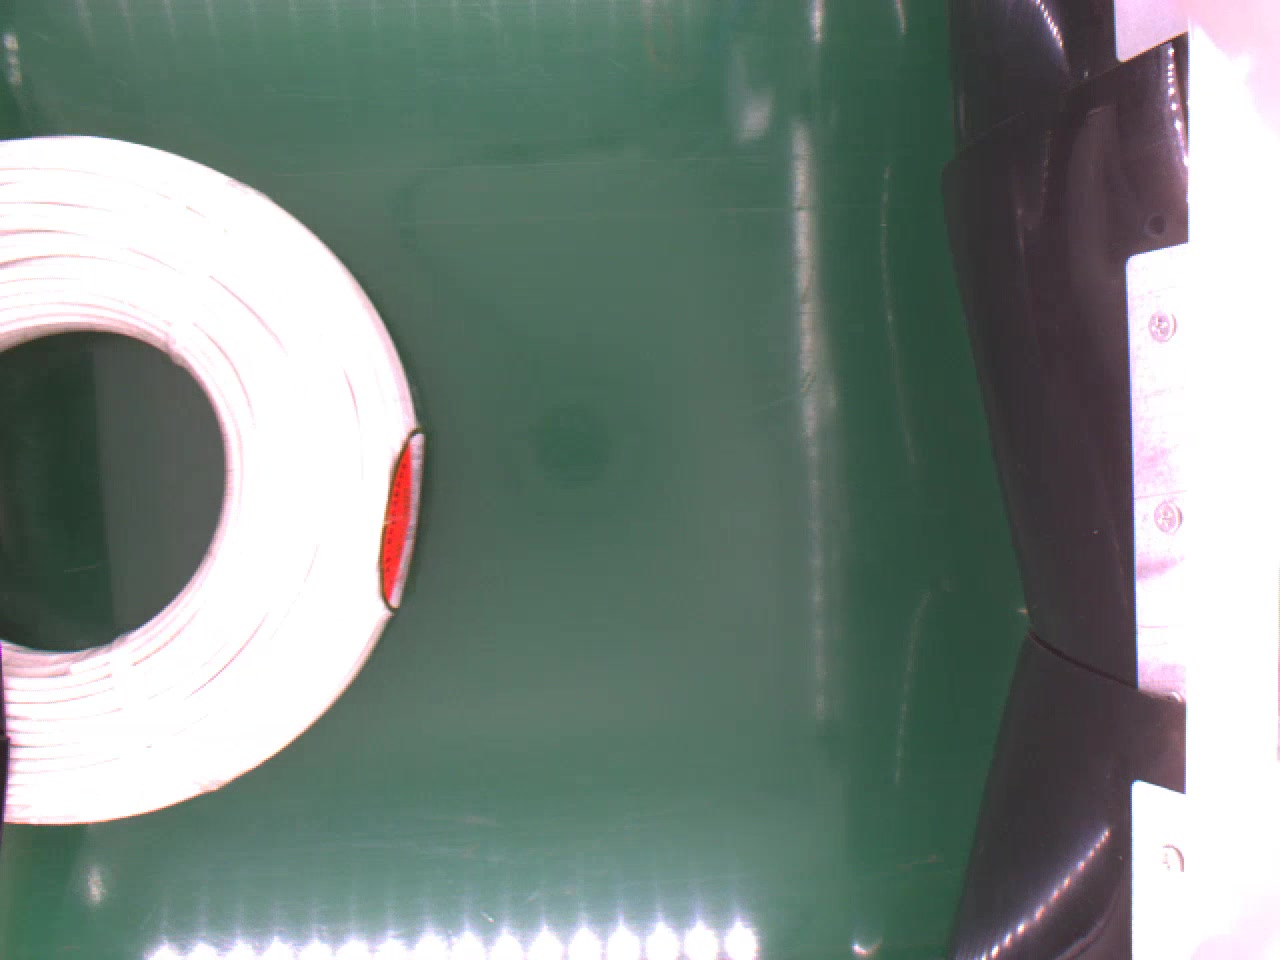white: (0, 132, 425, 831)
